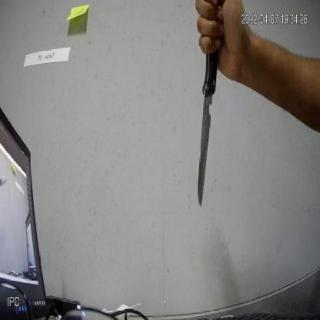knife: (198, 4, 224, 220)
